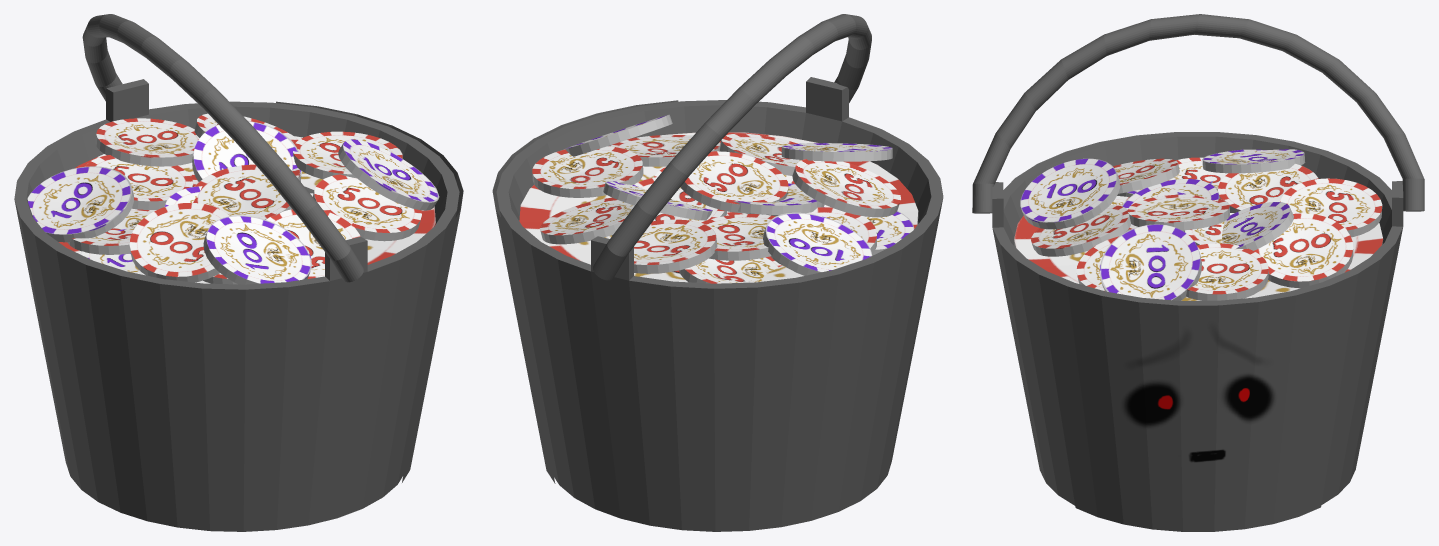
File: bucket.fbx
3 renders of one model, left to right at view 1: azimuth 30°, elevation 25°; view 2: azimuth 150°, elevation 25°; view 3: azimuth 270°, elevation 25°, orthographic. The views are drawn at different scales.
Parts seen in each view (by area): view 1: Bucket; view 2: Bucket; view 3: Bucket.
Part boxes in pixels (box(x1,y1,x2,y2)): Bucket: box(14, 14, 463, 531); Bucket: box(492, 14, 943, 531); Bucket: box(972, 14, 1424, 531).
Bounding box in the file's own units: 262 × 285 × 285.
3 materials, 3 textured.
